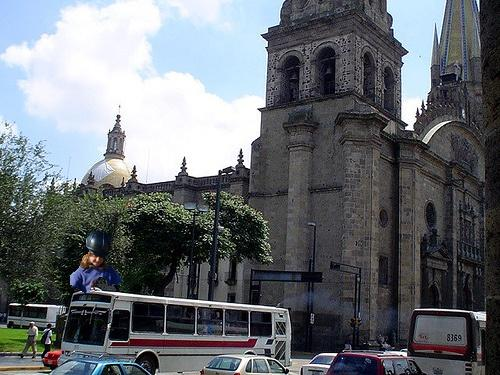tampered: (71, 231, 121, 293)
